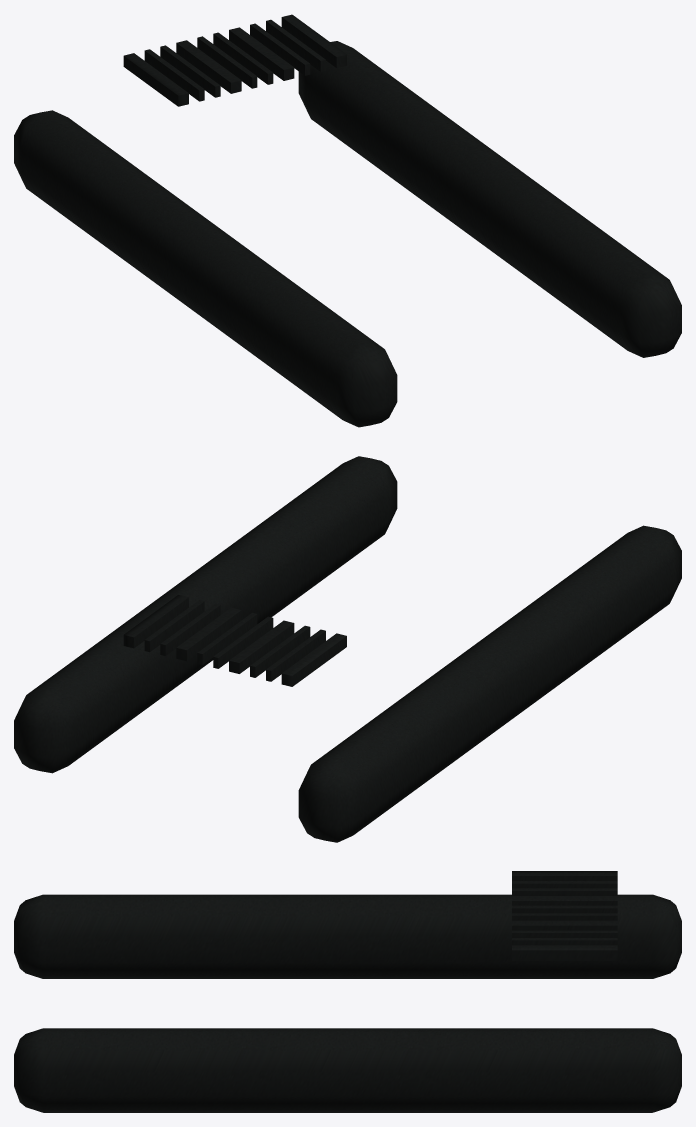
3 views of the same model, one above another, from view 1: azimuth 30°, elevation 25°; view 2: azimuth 150°, elevation 25°; view 3: azimuth 270°, elevation 25° (orthographic). The views are drawn at different scales.
Bounding box in the file's own units: 3.2 × 1.25 × 5.7.
1 material, 1 textured.
